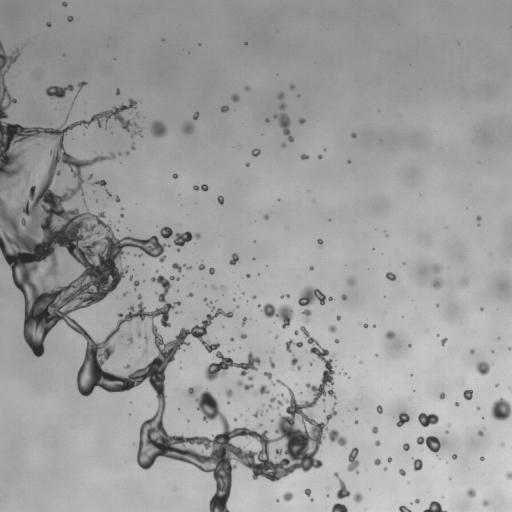droplet: (298, 286, 333, 321), (258, 303, 293, 328), (173, 231, 200, 251), (490, 397, 511, 420), (416, 436, 440, 453), (418, 412, 438, 427), (149, 121, 167, 137), (285, 339, 302, 352), (476, 361, 490, 375), (396, 412, 409, 426), (182, 121, 194, 133), (160, 226, 172, 238), (257, 384, 269, 394), (229, 253, 238, 265), (413, 459, 422, 471), (432, 278, 442, 288), (283, 491, 293, 501), (385, 330, 395, 339), (187, 387, 197, 396), (463, 390, 472, 400), (432, 264, 441, 273), (386, 272, 395, 281), (467, 488, 476, 497), (353, 493, 362, 502), (251, 148, 260, 156), (347, 277, 356, 285), (78, 81, 86, 89), (127, 334, 133, 344), (220, 105, 228, 112), (460, 278, 467, 286), (328, 325, 336, 332), (264, 372, 272, 379), (398, 469, 406, 476), (231, 94, 238, 101), (278, 92, 284, 100), (217, 196, 223, 204), (133, 280, 139, 288), (226, 389, 232, 397), (376, 405, 382, 413), (403, 443, 409, 451), (300, 154, 309, 159), (279, 103, 286, 109), (372, 426, 378, 433), (374, 458, 380, 465), (482, 500, 489, 506), (241, 317, 246, 325), (143, 348, 148, 356), (506, 471, 511, 479), (299, 118, 305, 124), (240, 333, 246, 339), (193, 112, 198, 119), (476, 216, 481, 223), (209, 267, 214, 274), (136, 330, 141, 337), (441, 338, 446, 345), (67, 16, 73, 21), (172, 173, 178, 178), (114, 196, 119, 202), (317, 239, 323, 244), (199, 264, 204, 270), (341, 294, 346, 300), (439, 393, 444, 399), (478, 431, 483, 436), (375, 440, 380, 445), (452, 454, 457, 459), (144, 335, 148, 341), (351, 133, 356, 137), (88, 174, 92, 179), (264, 214, 268, 219), (187, 292, 192, 296), (470, 349, 474, 354), (256, 423, 261, 427), (387, 457, 391, 462), (414, 499, 419, 503), (62, 2, 66, 6), (46, 22, 50, 26), (290, 85, 294, 89), (245, 86, 249, 90), (265, 118, 269, 122), (281, 143, 285, 147), (318, 154, 322, 158), (309, 266, 313, 270), (294, 330, 298, 334), (335, 339, 339, 343), (455, 402, 459, 406), (480, 456, 484, 460), (116, 89, 119, 94), (131, 144, 134, 149), (246, 274, 250, 277), (212, 285, 216, 288), (252, 295, 256, 298), (337, 316, 340, 320), (363, 324, 367, 327), (230, 337, 233, 341), (383, 467, 387, 470), (246, 163, 249, 166), (129, 276, 132, 279), (123, 292, 126, 295), (207, 303, 210, 306), (233, 418, 236, 421), (446, 424, 450, 426), (126, 151, 128, 154), (348, 160, 350, 163), (83, 200, 85, 203), (120, 214, 123, 216), (155, 270, 158, 272), (221, 285, 223, 288), (204, 298, 206, 301), (480, 308, 483, 310), (121, 334, 124, 336), (344, 372, 346, 375), (495, 384, 498, 386), (476, 407, 479, 409), (136, 113, 138, 115), (0, 227, 2, 229), (139, 254, 141, 256), (275, 336, 277, 338), (497, 337, 499, 339), (509, 347, 511, 349), (310, 362, 312, 364), (355, 421, 357, 423)
ligament: (0, 41, 346, 511), (274, 113, 293, 142), (334, 472, 350, 499), (46, 84, 73, 98), (347, 447, 359, 473), (423, 501, 446, 511), (172, 262, 191, 272), (236, 380, 253, 390), (331, 503, 348, 511), (291, 356, 301, 369), (193, 184, 208, 191), (305, 488, 313, 500), (93, 180, 106, 186), (399, 505, 411, 511), (253, 410, 263, 417), (269, 358, 275, 368), (281, 294, 289, 298), (106, 190, 110, 196), (510, 387, 511, 390)
